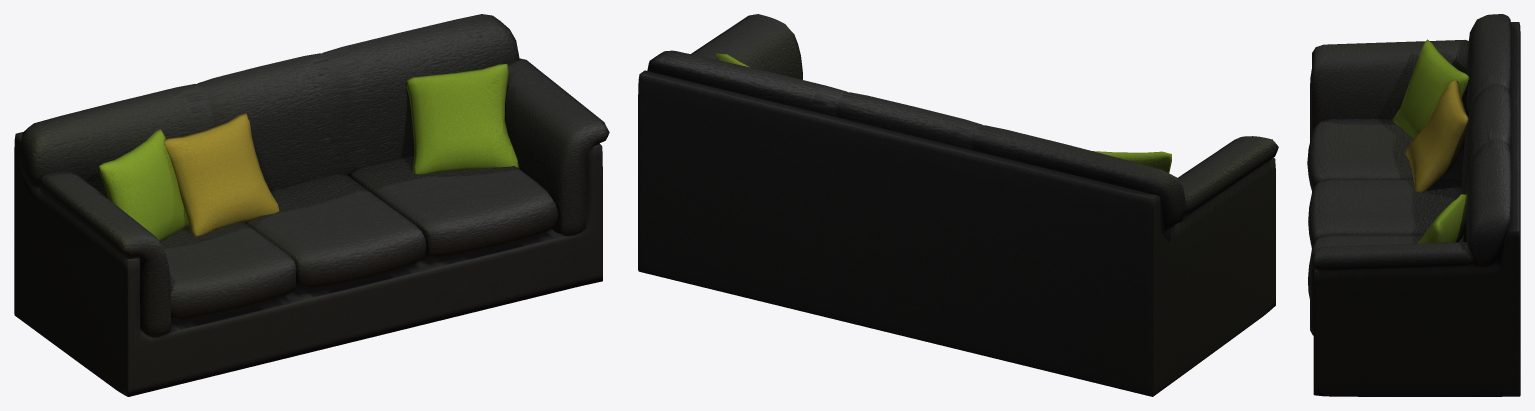
File: black couch1 - Copy (2).glb
3 views of the same model, side by side, from view 1: azimuth 30°, elevation 25°; view 2: azimuth 150°, elevation 25°; view 3: azimuth 270°, elevation 25° (orthographic). The views are drawn at different scales.
Parts seen in each view (by area): view 1: cushions.001, sofa.001, pillows.001, pillows.002; view 2: sofa.001, cushions.001, pillows.001; view 3: cushions.001, sofa.001, pillows.001, pillows.002.
Part boxes in pixels (<box>): cushions.001: <box>19,14,609,335</box>; sofa.001: <box>14,132,602,396</box>; pillows.001: <box>99,64,519,241</box>; pillows.002: <box>163,113,279,236</box>; sofa.001: <box>638,70,1275,396</box>; cushions.001: <box>647,14,1278,231</box>; pillows.001: <box>716,53,1171,172</box>; cushions.001: <box>1307,14,1511,335</box>; sofa.001: <box>1313,22,1520,396</box>; pillows.001: <box>1392,39,1469,243</box>; pillows.002: <box>1405,79,1468,192</box>.
Size of the model in its own units: 3.61 by 1.41 by 1.5.
4 materials, 4 textured.
